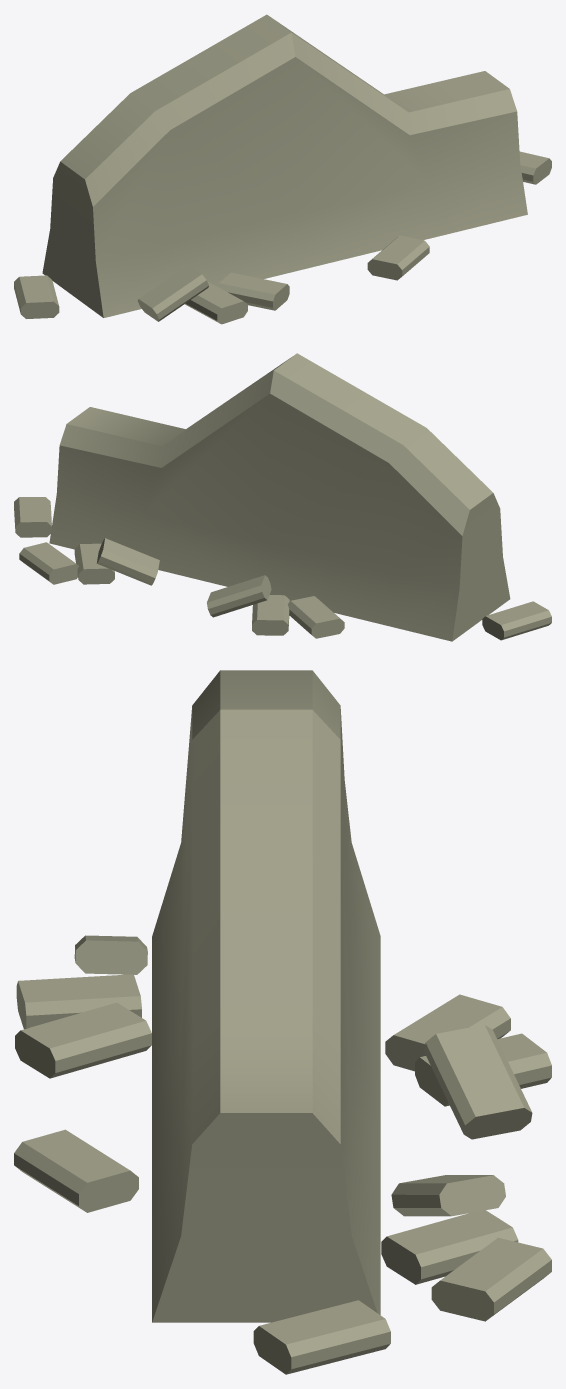
Rendered from Wall_Crumbled_002.fbx.
The picture shows the model from 3 angles, top to bottom: view 1: azimuth 30°, elevation 25°; view 2: azimuth 150°, elevation 25°; view 3: azimuth 270°, elevation 25°; orthographic projection. The views are drawn at different scales.
Parts seen in each view (by area): view 1: pCube1, pCube4, pCube5, pCube2, pCube11, pCube3, pCube9; view 2: pCube1, pCube6 (×2), pCube7 (×2), pCube11, pCube8, pCube10, pCube9; view 3: pCube1, pCube6 (×2), pCube7 (×2), pCube9, pCube2, pCube5, pCube8, pCube3, pCube10, pCube4.
Part boxes in pixels (x1,y1,x2,y2): pCube1: [42, 14, 527, 317]; pCube4: [138, 264, 208, 321]; pCube5: [367, 235, 429, 280]; pCube2: [218, 272, 289, 310]; pCube11: [14, 275, 59, 318]; pCube3: [185, 281, 247, 324]; pCube9: [519, 151, 551, 184]; pCube1: [49, 353, 510, 641]; pCube6 (×2): [96, 538, 271, 617]; pCube7 (×2): [74, 543, 289, 635]; pCube11: [482, 601, 551, 640]; pCube8: [19, 542, 78, 584]; pCube10: [287, 596, 344, 638]; pCube9: [14, 497, 51, 537]; pCube1: [152, 670, 380, 1322]; pCube6 (×2): [391, 1025, 532, 1216]; pCube7 (×2): [381, 1033, 551, 1284]; pCube9: [253, 1300, 390, 1374]; pCube2: [15, 1002, 151, 1078]; pCube5: [14, 1129, 138, 1212]; pCube8: [431, 1237, 551, 1321]; pCube3: [16, 974, 141, 1029]; pCube10: [385, 994, 510, 1071]; pCube4: [74, 935, 147, 974].
Size of the model in its own units: 3.88 by 1.5 by 1.77.
